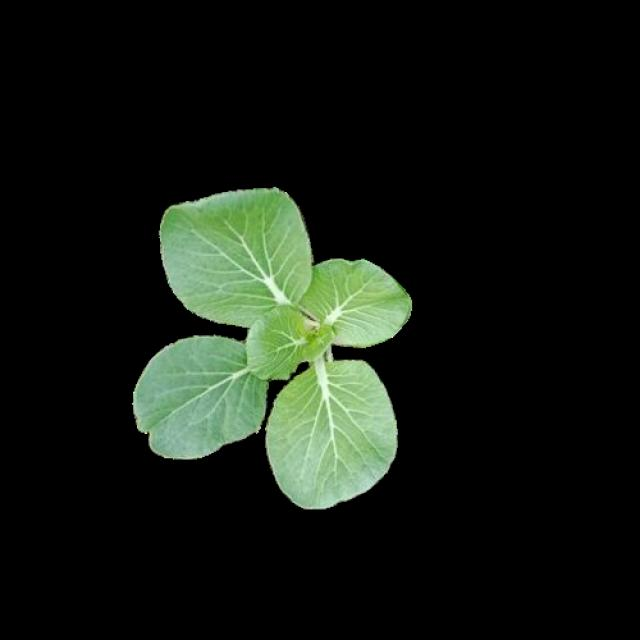healthy: (131, 184, 407, 503)
not-mature: (133, 187, 410, 505)
